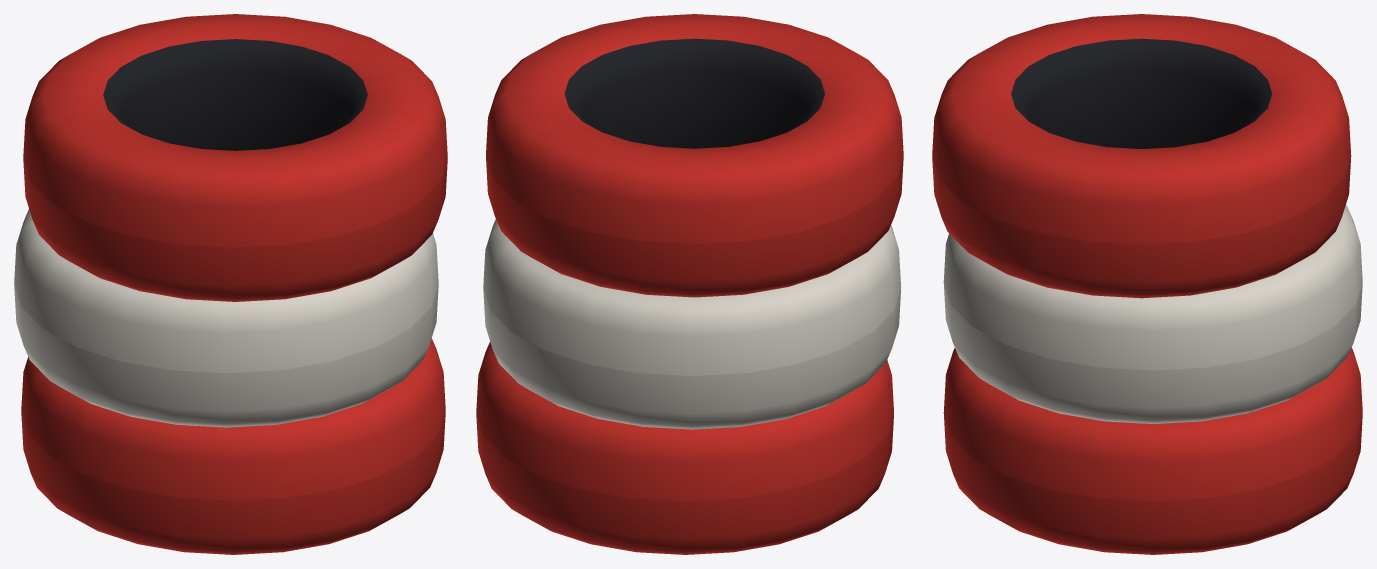
The model's file is tire_stack.glb.
3 views of the same model, side by side, from view 1: azimuth 30°, elevation 25°; view 2: azimuth 150°, elevation 25°; view 3: azimuth 270°, elevation 25° (orthographic).
Parts seen in each view (by area): view 1: tire_stack_mesh; view 2: tire_stack_mesh; view 3: tire_stack_mesh.
Boxes of the visible parts, left/top/right/bottom form: tire_stack_mesh: left=14, top=14, right=447, bottom=554; tire_stack_mesh: left=476, top=14, right=903, bottom=554; tire_stack_mesh: left=932, top=14, right=1362, bottom=554.
Bounding box in the file's own units: 0.7747 × 0.77 × 0.7811.
